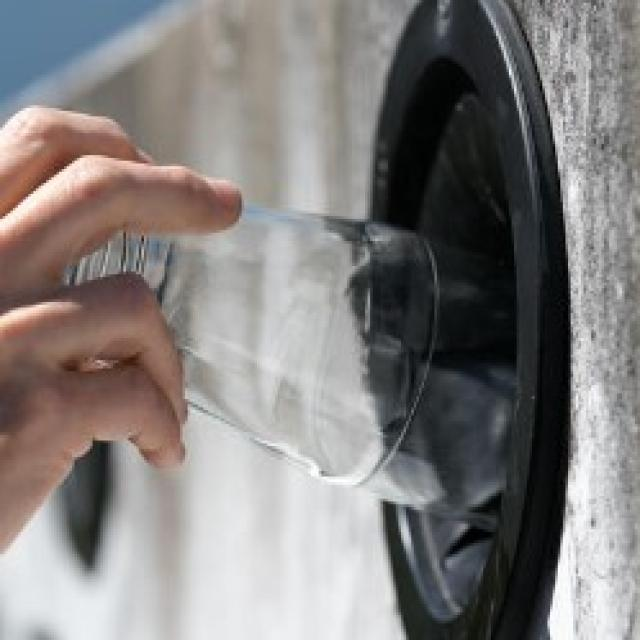electronic: (71, 171, 522, 533)
